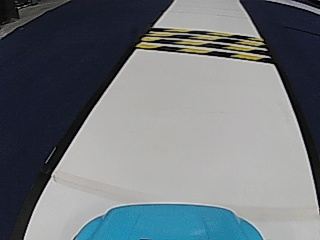bump: (149, 27, 252, 60)
